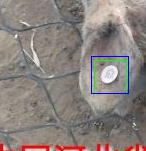text: (94, 60, 126, 93)
